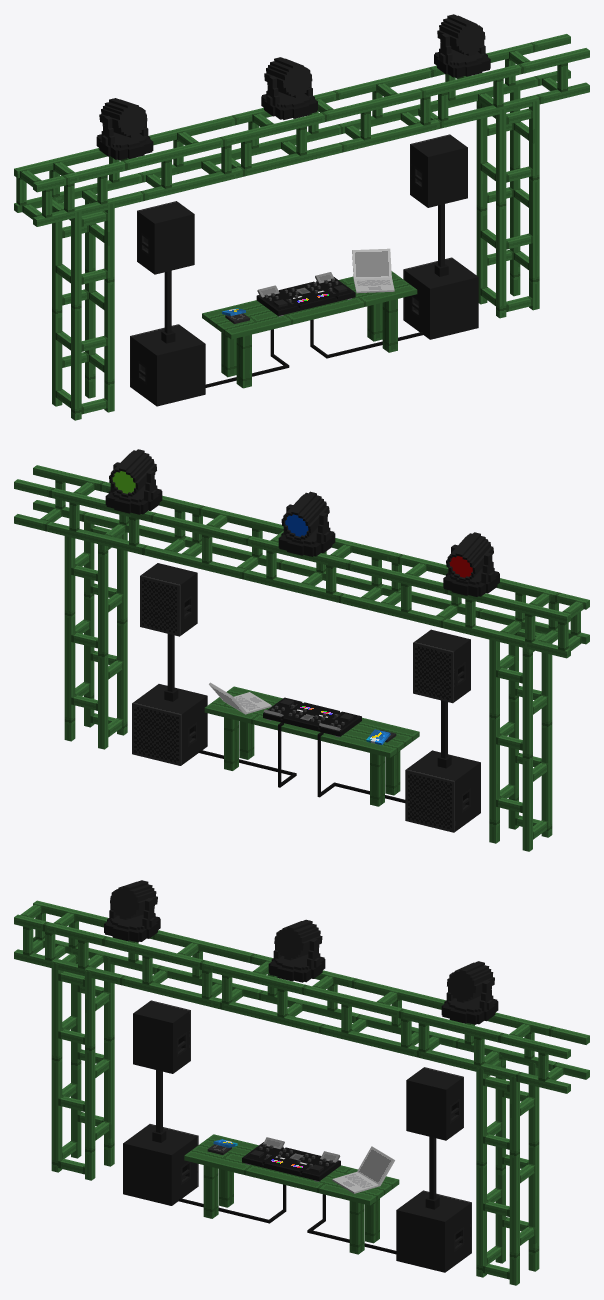
The picture shows the model from 3 angles, top to bottom: view 1: azimuth 30°, elevation 25°; view 2: azimuth 150°, elevation 25°; view 3: azimuth 330°, elevation 25°; orthographic projection.
Visible parts, largest first — view 1: Bambussgestelle wagerecht-Local, Bambus gestell-Local, Bambus Gestell2-Local, Dj setup-Local, BassBox-Local, BassBox (1)-Local, Music Boxen-Local, Music Box-Local, Djteschnik-Local, lichtkopf-Local, lichtkopf (2)-Local, lichtkopf (1)-Local (+8 smaller); view 2: Bambussgestelle wagerecht-Local, Bambus gestell-Local, Bambus Gestell2-Local, Dj setup-Local, BassBox-Local, BassBox (1)-Local, Music Box-Local, Music Boxen-Local, Djteschnik-Local, lichtkopf (2)-Local, lichtkopf-Local, lichtkopf (1)-Local (+8 smaller); view 3: Bambussgestelle wagerecht-Local, Bambus Gestell2-Local, Bambus gestell-Local, Dj setup-Local, BassBox (1)-Local, BassBox-Local, Music Box-Local, Music Boxen-Local, Djteschnik-Local, lichtkopf-Local, lichtkopf (2)-Local, lichtkopf (1)-Local (+8 smaller).
Part boxes in pixels (left/top/right/bottom): Bambussgestelle wagerecht-Local: left=14, top=34, right=589, bottom=226; Bambus gestell-Local: left=476, top=86, right=539, bottom=318; Bambus Gestell2-Local: left=52, top=188, right=114, bottom=420; Dj setup-Local: left=202, top=271, right=417, bottom=388; BassBox-Local: left=130, top=324, right=205, bottom=406; BassBox (1)-Local: left=403, top=257, right=478, bottom=339; Music Boxen-Local: left=137, top=201, right=194, bottom=343; Music Box-Local: left=410, top=134, right=467, bottom=276; Djteschnik-Local: left=256, top=277, right=355, bottom=316; lichtkopf-Local: left=437, top=14, right=485, bottom=55; lichtkopf (2)-Local: left=264, top=57, right=312, bottom=97; lichtkopf (1)-Local: left=99, top=98, right=147, bottom=137; Bambussgestelle wagerecht-Local: left=14, top=465, right=589, bottom=658; Bambus gestell-Local: left=64, top=522, right=127, bottom=749; Bambus Gestell2-Local: left=489, top=629, right=552, bottom=851; Dj setup-Local: left=204, top=686, right=419, bottom=806; BassBox-Local: left=405, top=750, right=480, bottom=832; BassBox (1)-Local: left=132, top=684, right=207, bottom=765; Music Box-Local: left=140, top=563, right=197, bottom=701; Music Boxen-Local: left=413, top=629, right=470, bottom=768; Djteschnik-Local: left=263, top=697, right=361, bottom=737; lichtkopf (2)-Local: left=281, top=491, right=329, bottom=540; lichtkopf-Local: left=109, top=449, right=156, bottom=497; lichtkopf (1)-Local: left=446, top=532, right=493, bottom=580; Bambussgestelle wagerecht-Local: left=14, top=900, right=589, bottom=1093; Bambus Gestell2-Local: left=51, top=948, right=114, bottom=1180; Bambus gestell-Local: left=476, top=1054, right=539, bottom=1285; Dj setup-Local: left=184, top=1134, right=399, bottom=1254; BassBox (1)-Local: left=396, top=1190, right=471, bottom=1272; BassBox-Local: left=123, top=1124, right=198, bottom=1205; Music Box-Local: left=406, top=1067, right=463, bottom=1209; Music Boxen-Local: left=133, top=1000, right=190, bottom=1142; Djteschnik-Local: left=242, top=1142, right=340, bottom=1181; lichtkopf-Local: left=447, top=961, right=494, bottom=1002; lichtkopf (2)-Local: left=274, top=919, right=322, bottom=960; lichtkopf (1)-Local: left=110, top=880, right=157, bottom=919.
Bounding box in the file's own units: 250 × 127 × 31.34.
Materials: 24 (24 with a texture image).
